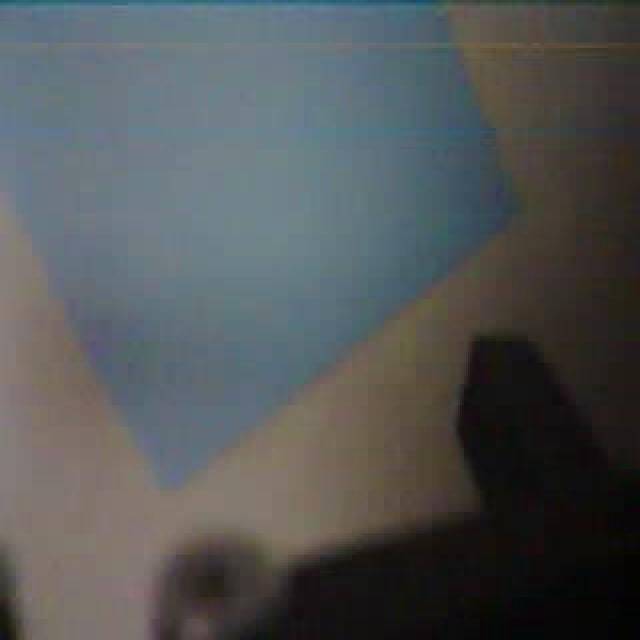blue_box: (0, 0, 572, 496)
